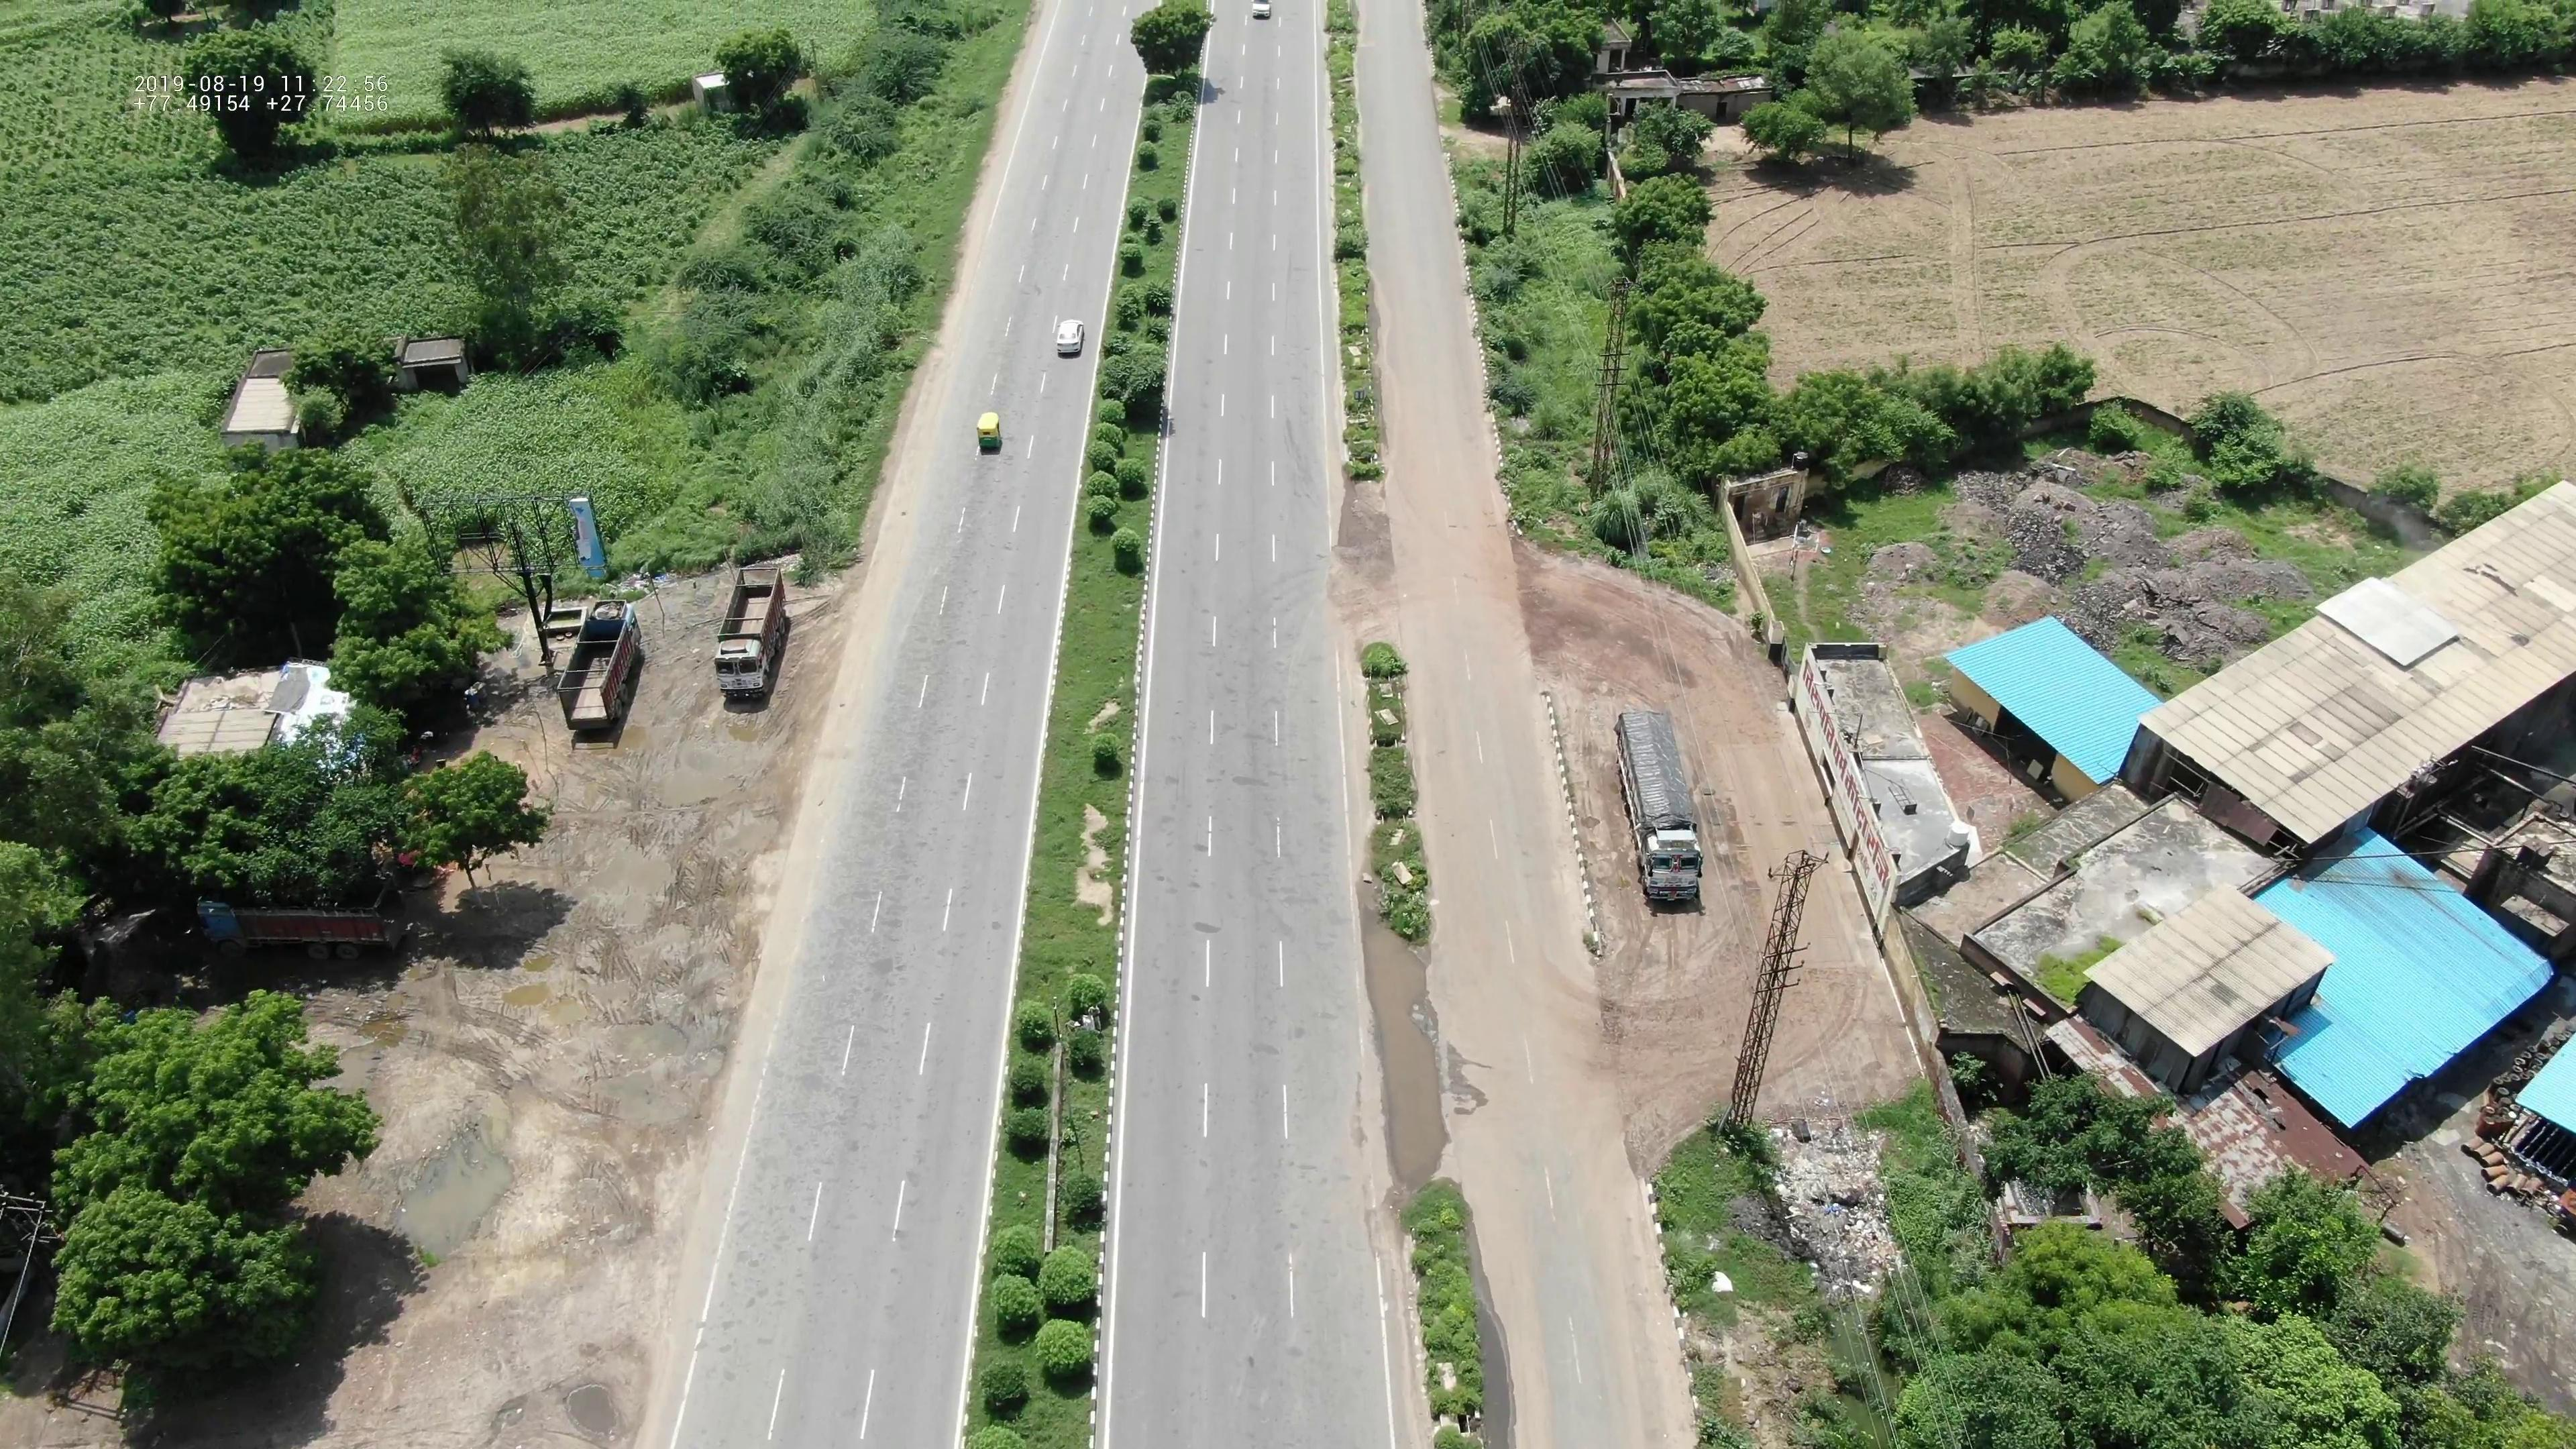Waterlogging: (1362, 916, 1461, 1169)
